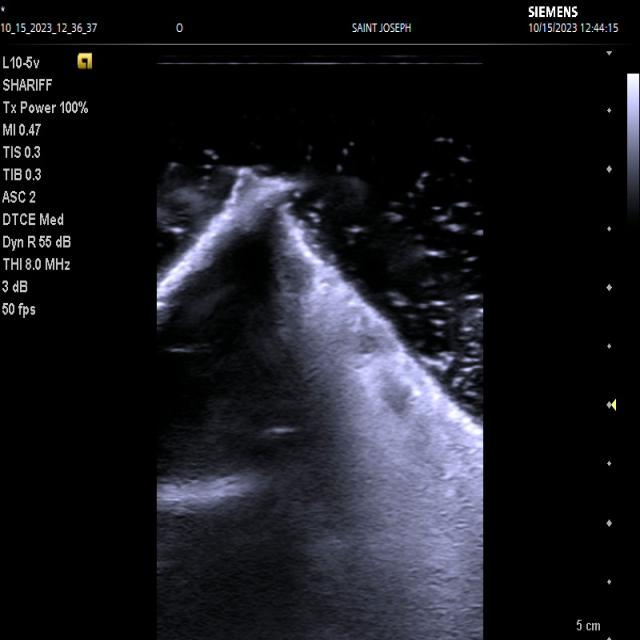tissue: (156, 167, 484, 640)
